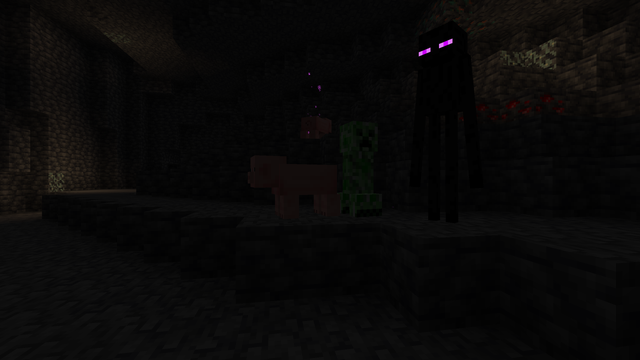cochons: (277, 161, 334, 218), (302, 115, 329, 137)
creepers: (338, 116, 380, 216)
endermens: (413, 14, 474, 224)
